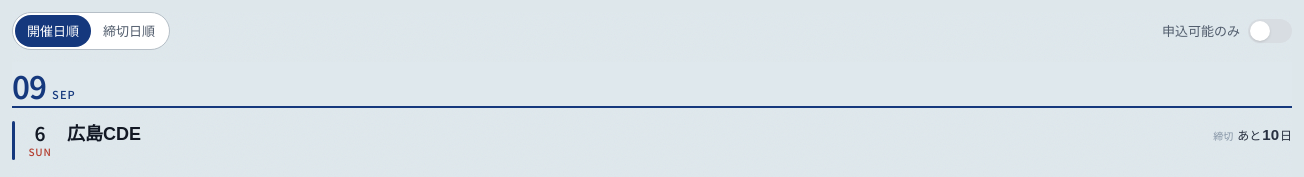
Test: EventListClient — 上段 DOM 順（AC-10） › 締切日順では 大会名 → 日付 → …→ 締切 の順に並ぶ
The image size is (1304, 177).
Click the tab "締切日順" at (129, 31), box left=91, top=15, right=167, bottom=47
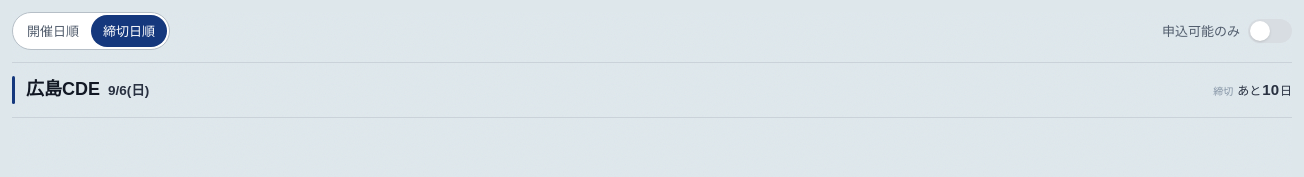
Check: the text "広島CDE" is shown, box left=26, top=76, right=100, bottom=104
Check: the text "9/6(日)" is shown, box left=108, top=81, right=149, bottom=102
